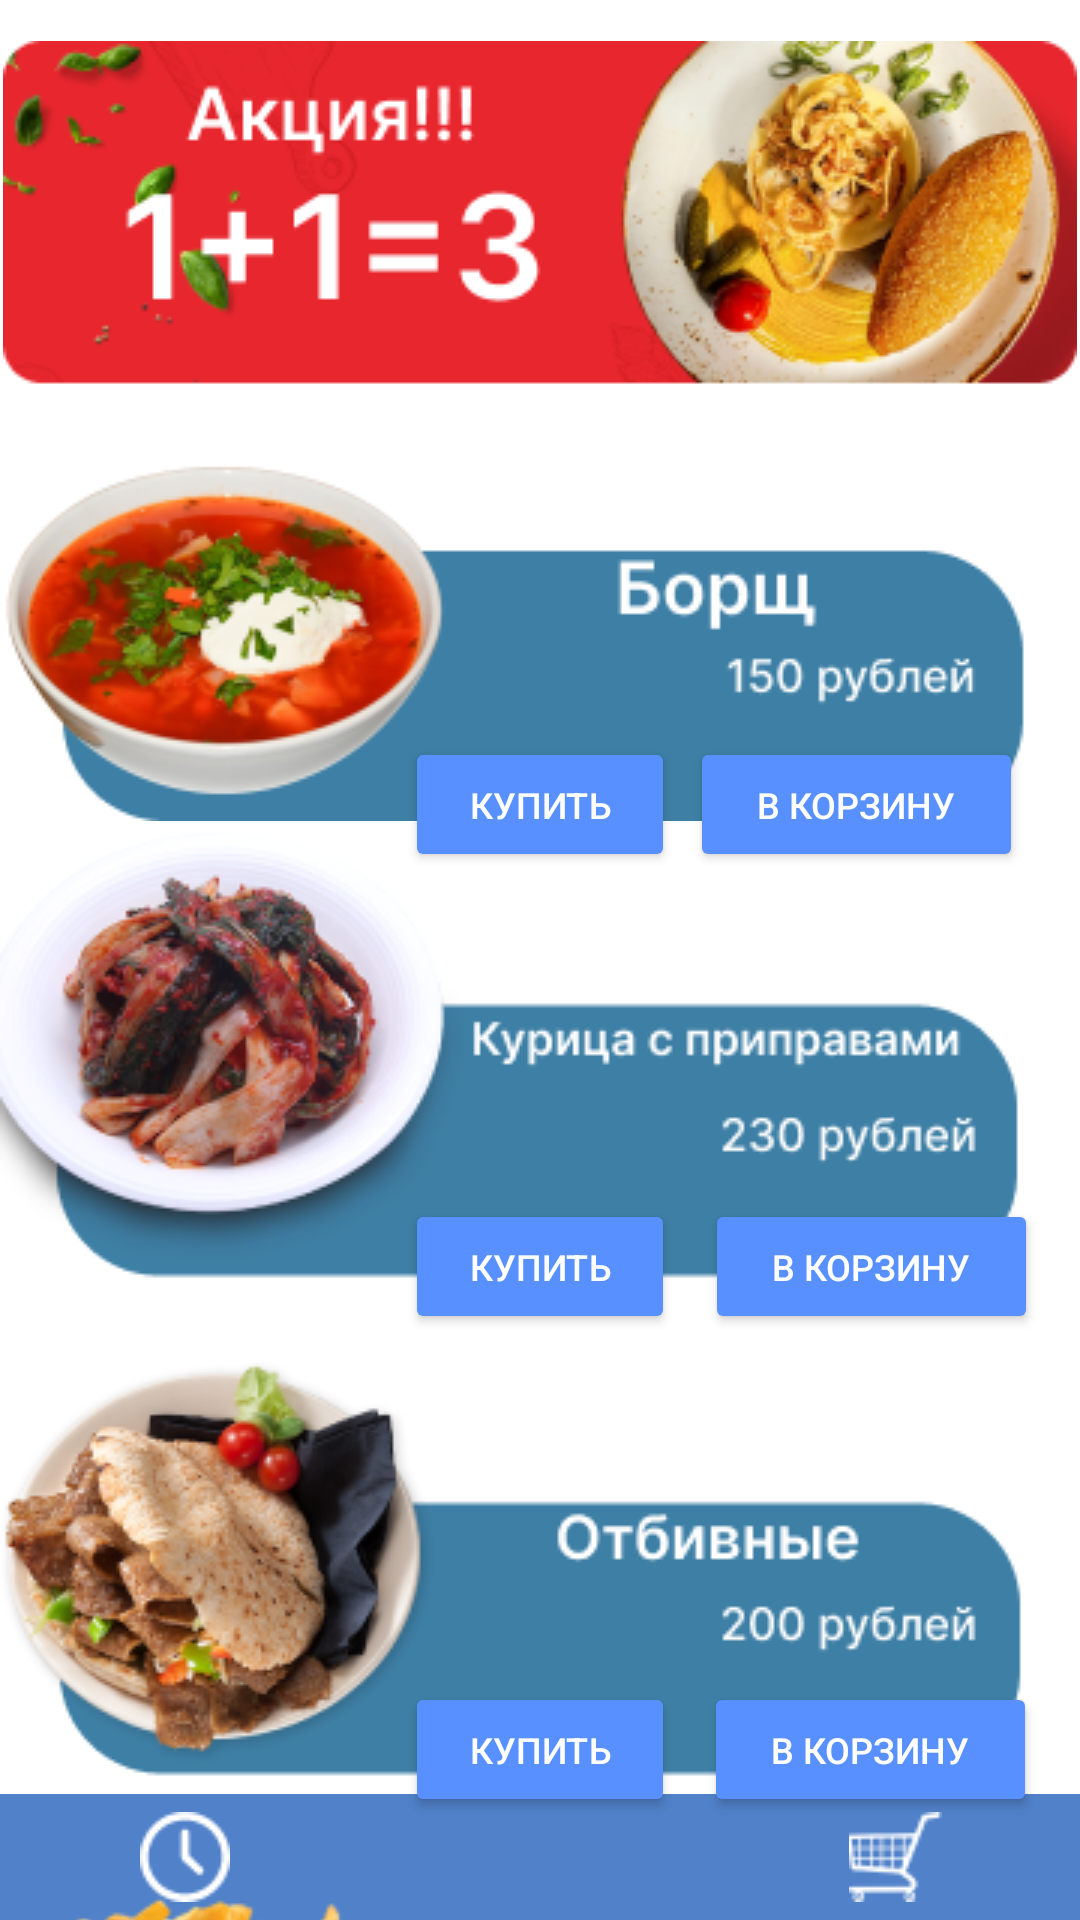

Icons on this 1080px×1920px Android screen, each with the point to tap as (x=x, y=y):
cart: (x=895, y=1857)
history: (x=185, y=1857)
